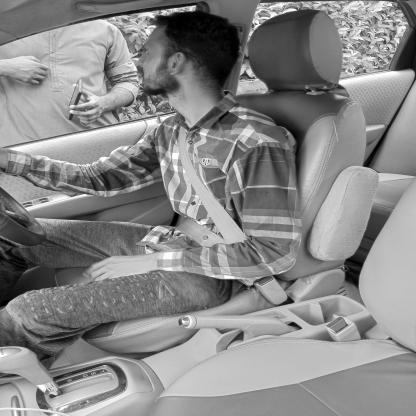seatbelt: (132, 18, 246, 212)
